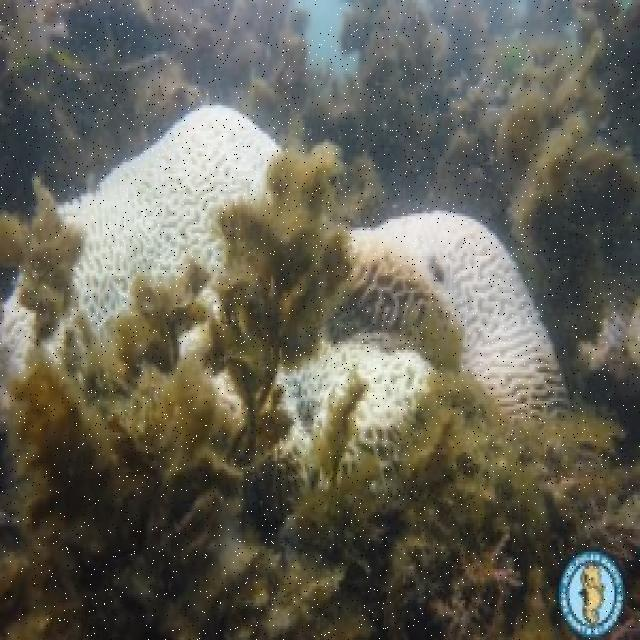Bleached: (1, 101, 287, 408), (357, 210, 571, 421), (280, 335, 436, 487)
Healthy: (282, 425, 639, 640), (3, 413, 277, 640), (274, 155, 356, 333)
